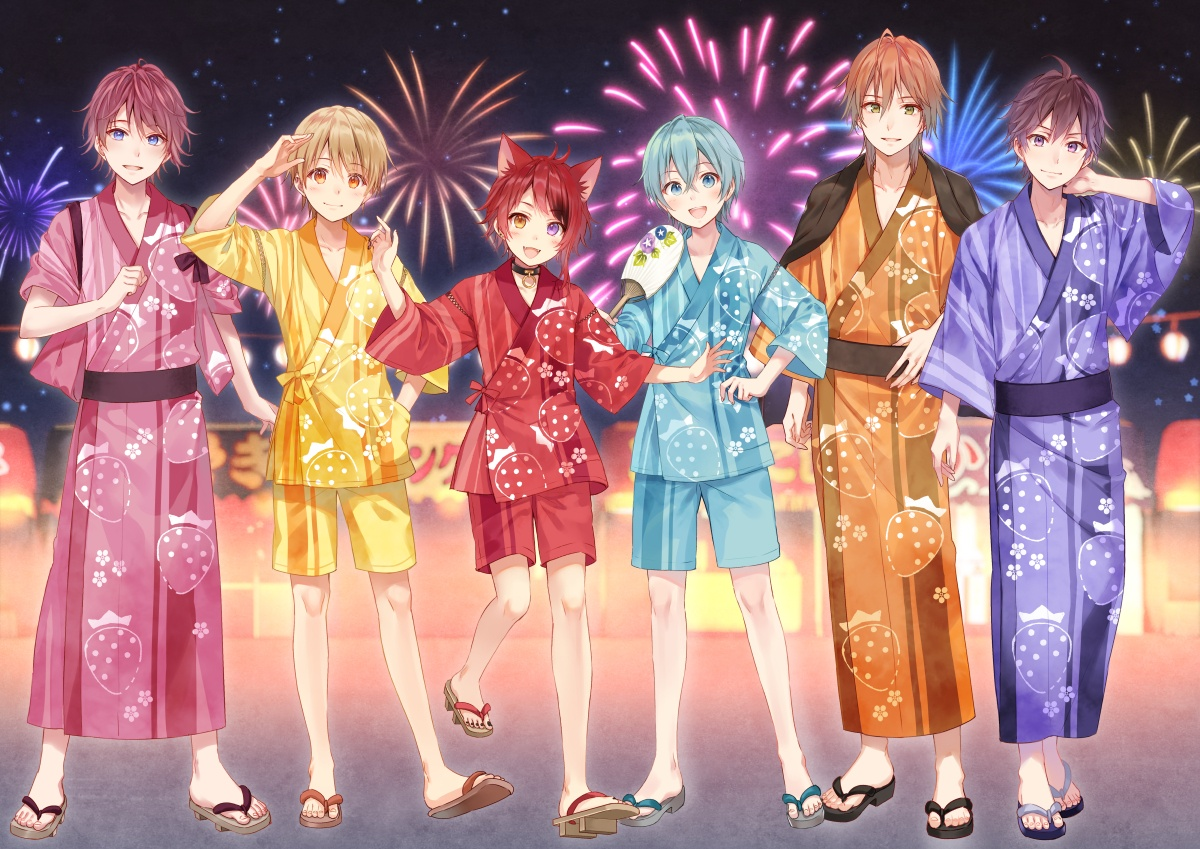纸片人正脸: (996, 57, 1120, 195), (75, 59, 198, 187), (274, 101, 396, 229), (630, 110, 756, 233), (477, 148, 596, 277), (838, 31, 951, 164)
